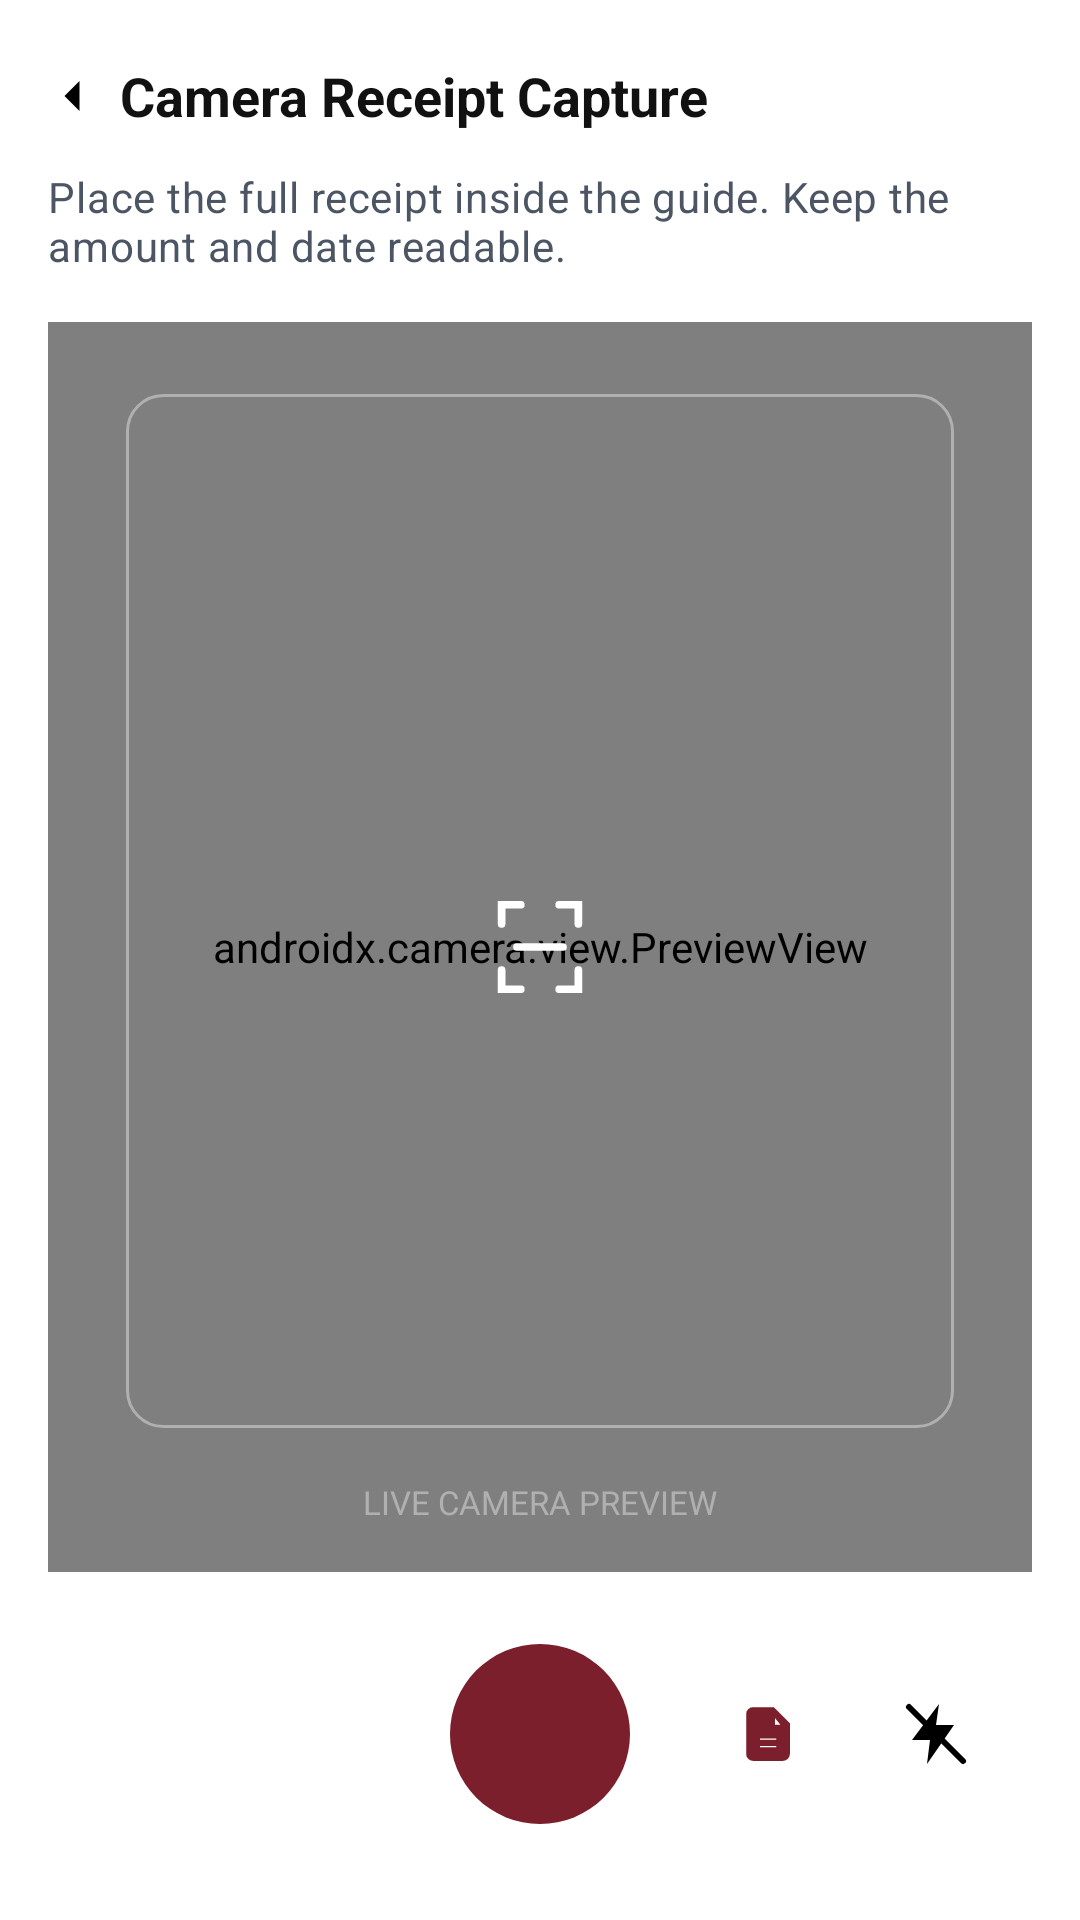

Locate icon controls on the screen. Image size 1080 × 1920, boxes as (x1, y1, x2, y2).
flash off: (906, 1703, 966, 1764)
